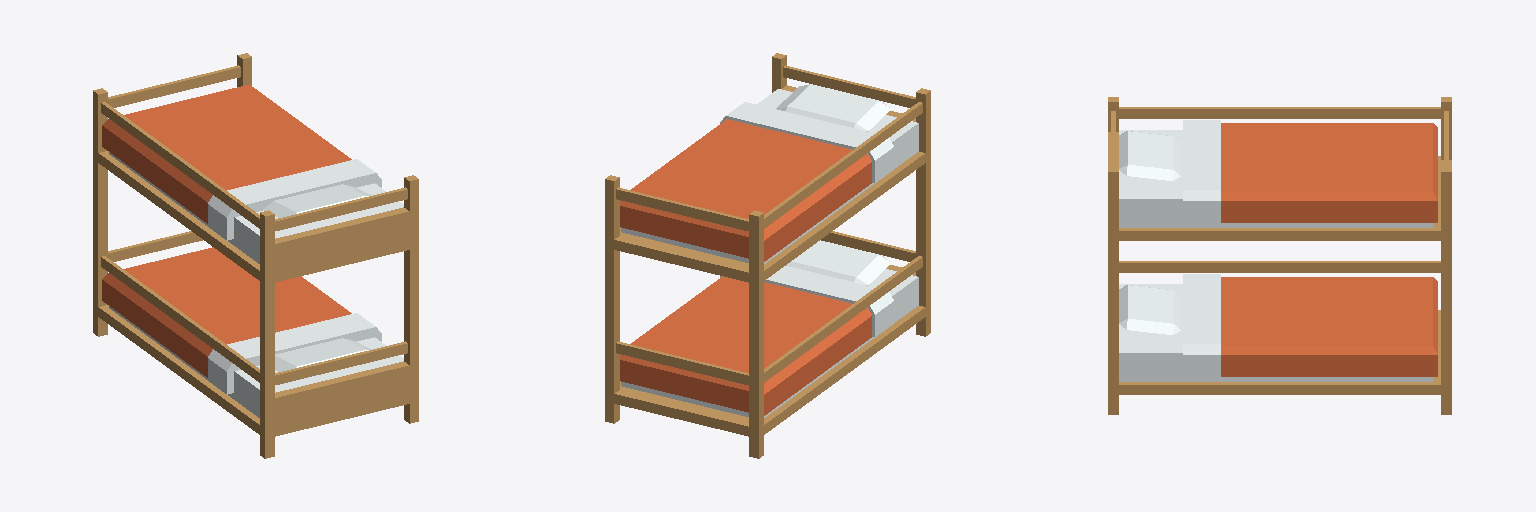
The model's file is bedBunk.obj.
3 renders of one model, left to right at view 1: azimuth 30°, elevation 25°; view 2: azimuth 150°, elevation 25°; view 3: azimuth 270°, elevation 25°, orthographic.
Parts seen in each view (by area): view 1: bedBunk, coverTop, coverBottom, pillowTop, pillowBottom; view 2: bedBunk, coverTop, coverBottom, pillowTop, pillowBottom; view 3: bedBunk, coverBottom, coverTop, pillowTop, pillowBottom.
Part boxes in pixels (left/top/right/bottom): bedBunk: left=93, top=53, right=418, bottom=458; coverTop: left=102, top=84, right=381, bottom=240; coverBottom: left=102, top=247, right=381, bottom=394; pillowTop: left=263, top=184, right=371, bottom=217; pillowBottom: left=275, top=338, right=371, bottom=371; bedBunk: left=605, top=53, right=930, bottom=458; coverTop: left=620, top=102, right=893, bottom=261; coverBottom: left=620, top=266, right=893, bottom=415; pillowTop: left=776, top=84, right=890, bottom=131; pillowBottom: left=786, top=241, right=890, bottom=285; bedBunk: left=1108, top=97, right=1451, bottom=414; coverBottom: left=1183, top=274, right=1437, bottom=377; coverTop: left=1183, top=120, right=1437, bottom=223; pillowTop: left=1119, top=131, right=1180, bottom=180; pillowBottom: left=1119, top=285, right=1180, bottom=334.
Size of the model in its own units: 5.71 by 8.5 by 10.95.